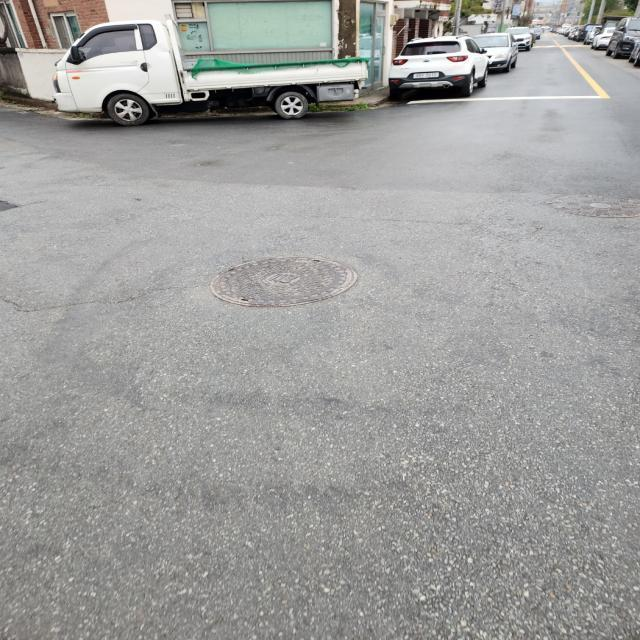manhole: (207, 254, 361, 313)
